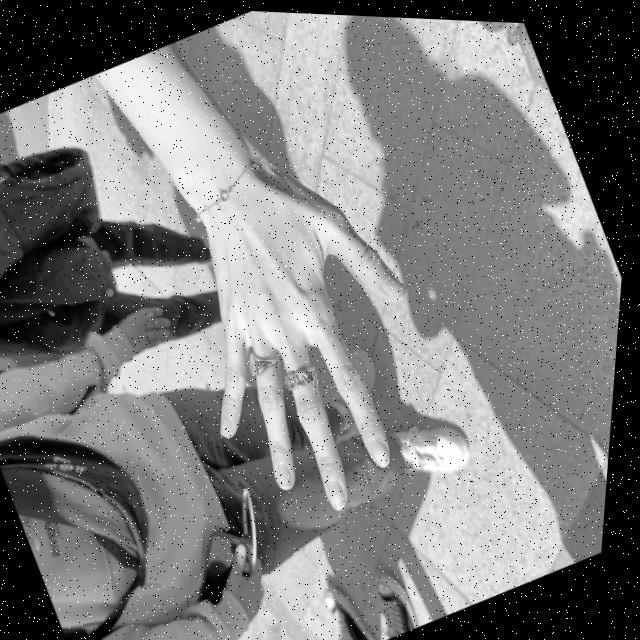no-gloves: (84, 37, 506, 544)
